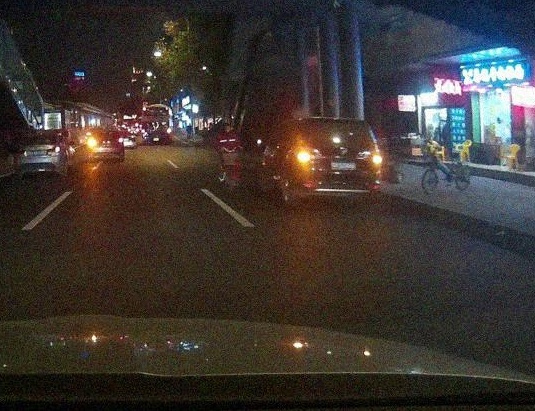L_light: (297, 153, 315, 162), (19, 149, 27, 154), (87, 139, 96, 143)
R_light: (364, 155, 381, 164), (47, 147, 60, 152), (113, 137, 123, 142)
T_light: (326, 119, 342, 123), (36, 133, 42, 135), (102, 132, 108, 133)
night-left: (295, 117, 381, 206), (87, 130, 124, 162)
night-no: (19, 132, 61, 182)
